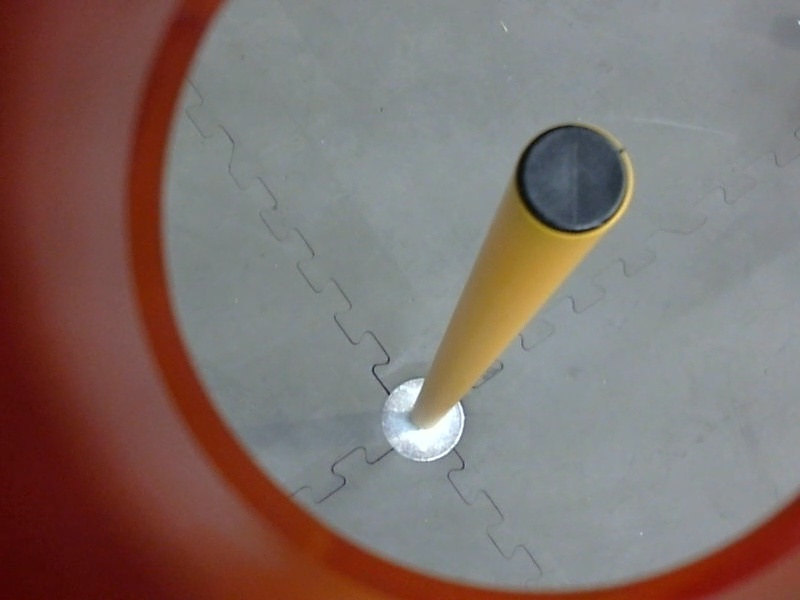tip: (501, 110, 640, 245)
